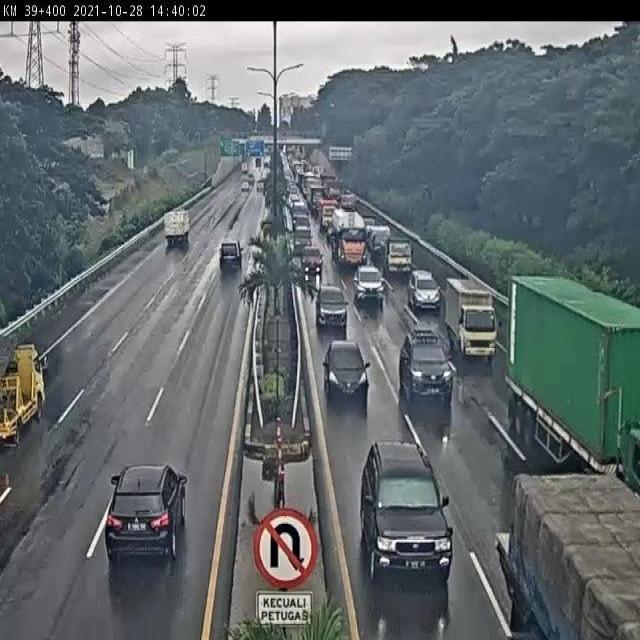Car: (358, 438, 452, 586), (104, 469, 188, 562), (399, 325, 454, 412), (322, 338, 372, 412), (314, 283, 348, 332), (352, 264, 386, 310), (408, 269, 440, 313), (300, 245, 323, 277), (218, 240, 242, 270), (293, 223, 311, 254), (290, 198, 308, 227)
Truck: (503, 276, 636, 486), (0, 343, 47, 447), (444, 277, 498, 367), (333, 209, 368, 267), (385, 238, 413, 276), (163, 209, 190, 248), (365, 224, 391, 264), (317, 198, 339, 230)
